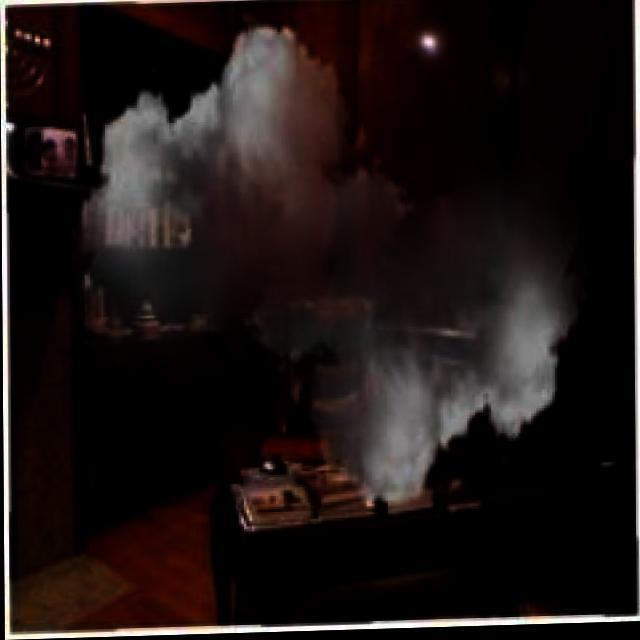Smoke: (80, 23, 588, 518)
